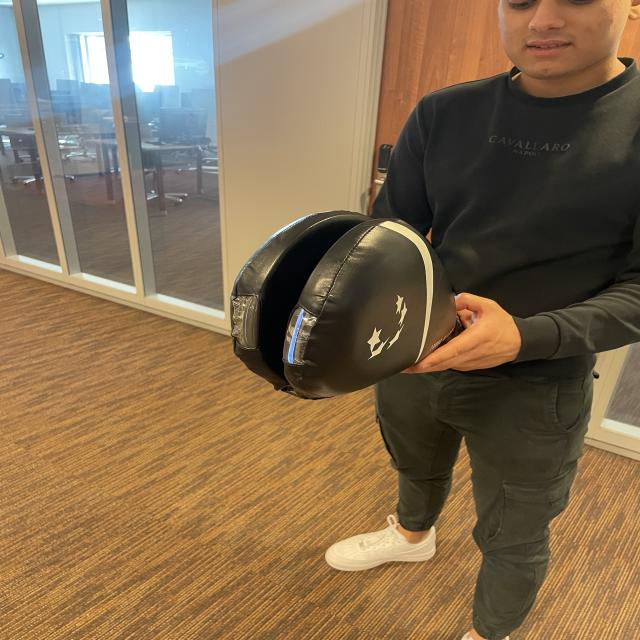paddle: (233, 211, 462, 398)
trigger: (284, 307, 304, 366)
